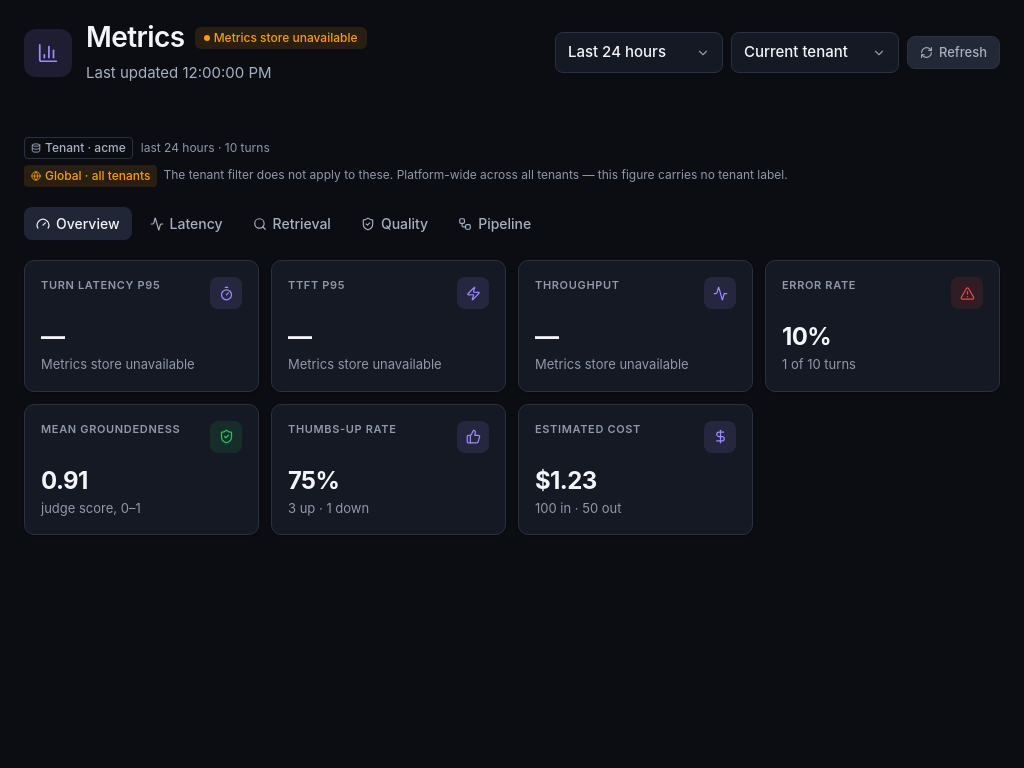
it: MetricsTab › when the metrics store is unavailable › degrades only the Prometheus widgets and keeps the Mongo-backed ones
The width and height of the screenshot is (1024, 768).
Click the button "Latency": (186, 224) [138,207,234,240]
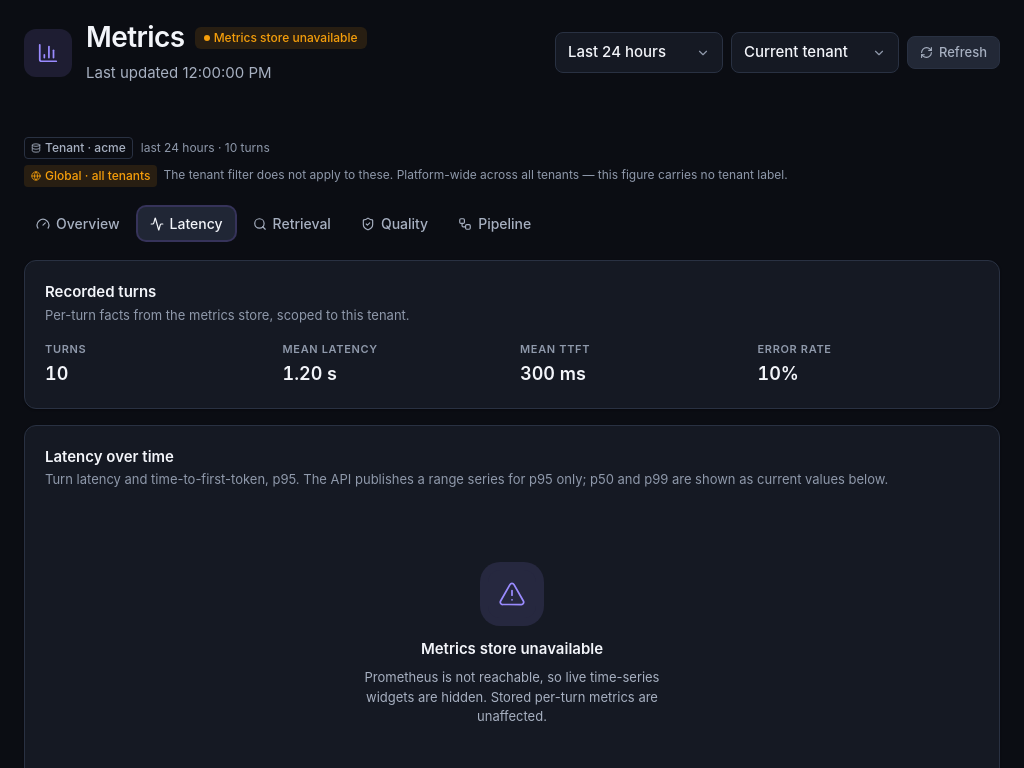
Expected: the heading "Recorded turns" is shown, [45,282,156,301]
Expected: the text "Mean latency" is shown, [282,342,378,356]
Expected: the text "1.20 s" is shown, [282,363,337,384]
